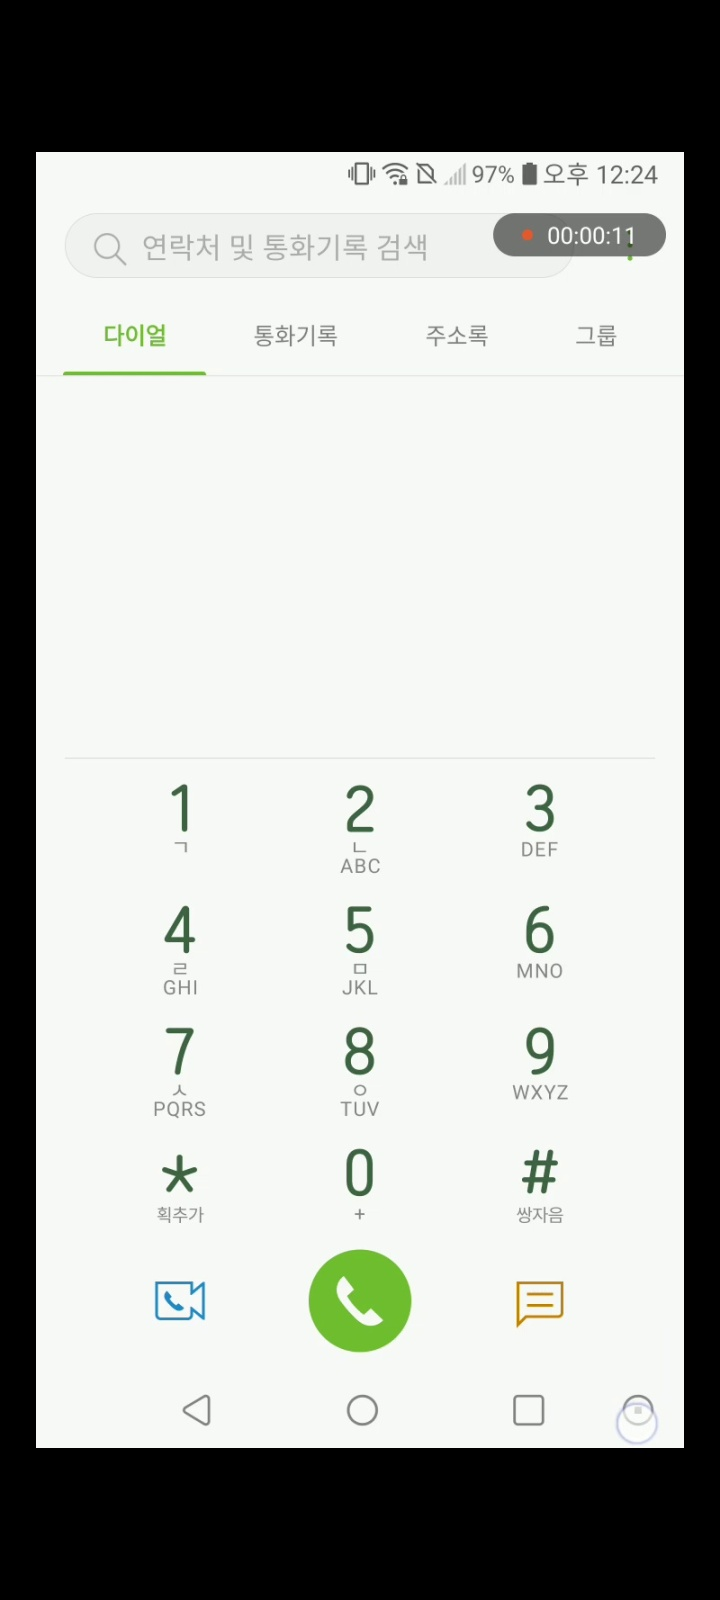Cursor: (616, 1403, 661, 1448)
